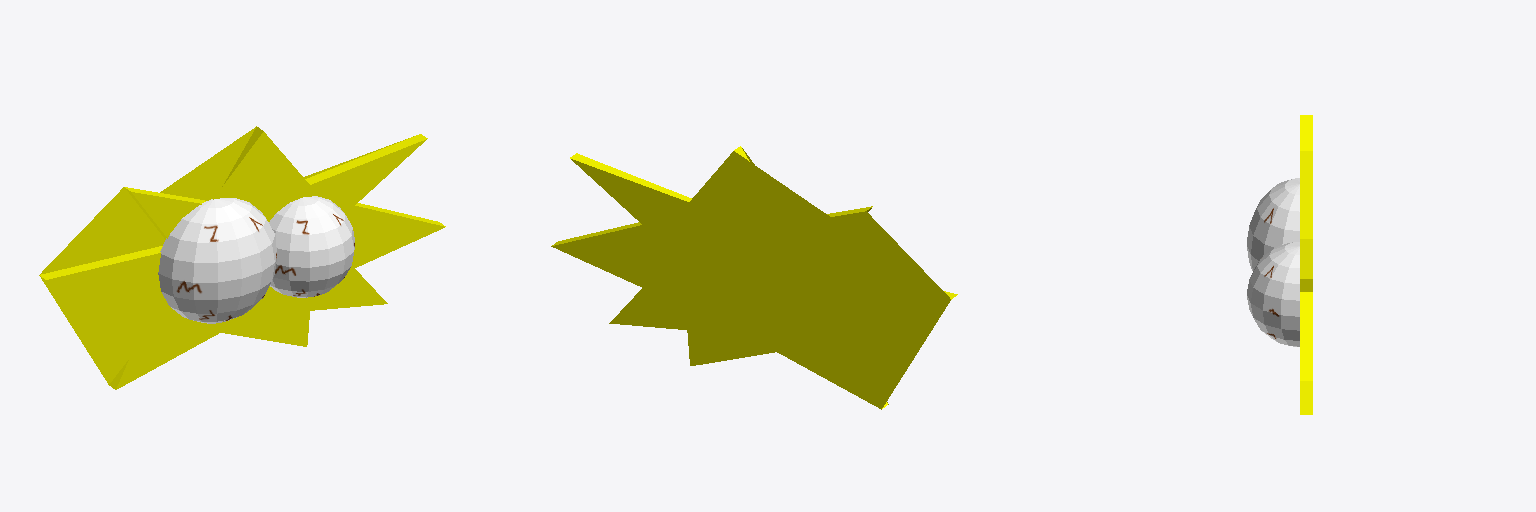
The picture shows the model from 3 angles: view 1: azimuth 30°, elevation 25°; view 2: azimuth 150°, elevation 25°; view 3: azimuth 270°, elevation 25°; orthographic projection.
Visible parts, largest first — view 1: Body, Eye, Eye.001; view 2: Body; view 3: Eye.001, Body, Eye.
Boxes of the visible parts, x1,y1,x2,y2 form: Body: [39, 126, 445, 389]; Eye: [158, 198, 276, 323]; Eye.001: [269, 196, 354, 297]; Body: [551, 146, 957, 409]; Eye.001: [1247, 242, 1299, 346]; Body: [1300, 115, 1312, 414]; Eye: [1247, 178, 1299, 270].
Size of the model in its own units: 6.66 by 3.6 by 0.9639.
3 materials, 2 textured.